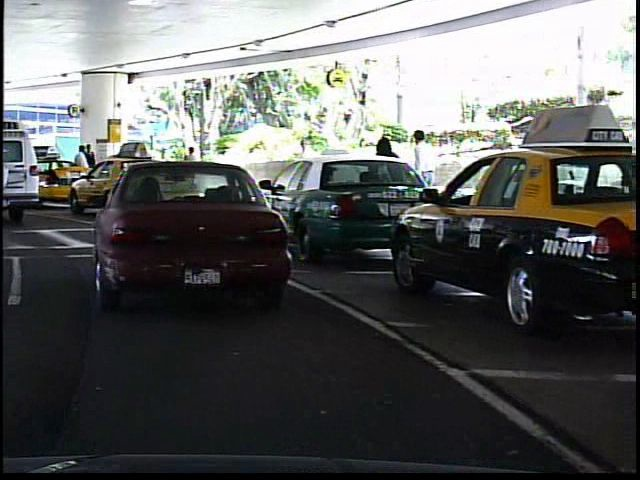person: (406, 122, 444, 226), (367, 128, 401, 226), (288, 132, 315, 203), (177, 140, 203, 190), (73, 145, 90, 197), (83, 141, 98, 193)
